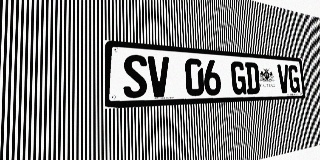0: (185, 58, 204, 96)
6: (203, 59, 221, 96)
D: (245, 62, 260, 94)
G: (230, 61, 247, 95), (288, 65, 300, 93)
S: (123, 54, 148, 98)
V: (148, 56, 170, 97), (277, 64, 290, 93)
